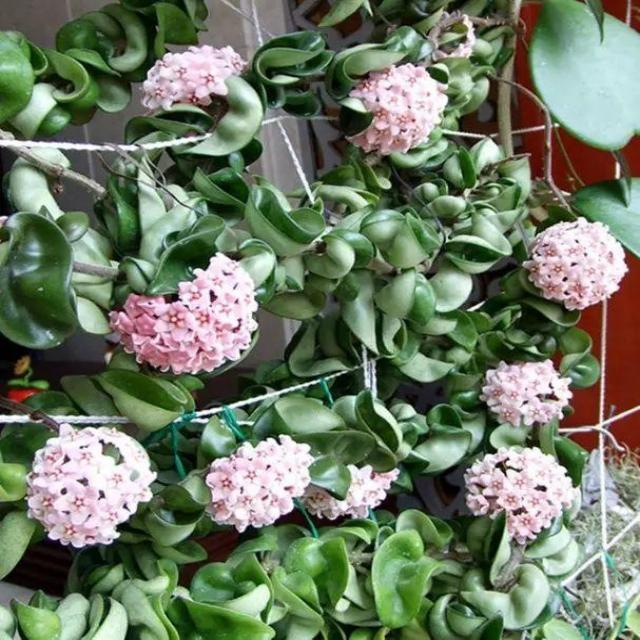organic waste: (92, 250, 268, 379), (27, 418, 158, 550), (476, 432, 574, 545), (200, 432, 318, 522), (346, 61, 452, 157), (523, 218, 622, 314), (135, 37, 241, 113), (488, 340, 563, 432), (320, 460, 395, 527)
